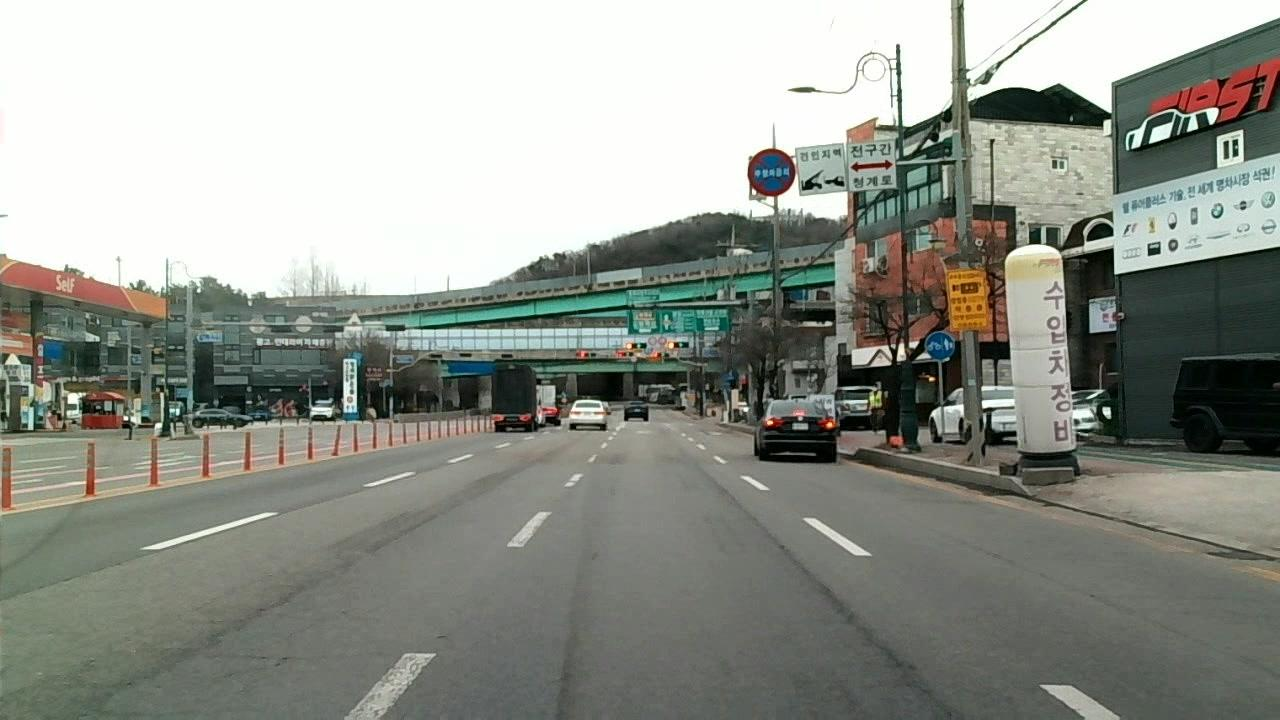vcrack: (814, 577, 950, 720), (94, 614, 262, 703), (705, 475, 801, 566)
